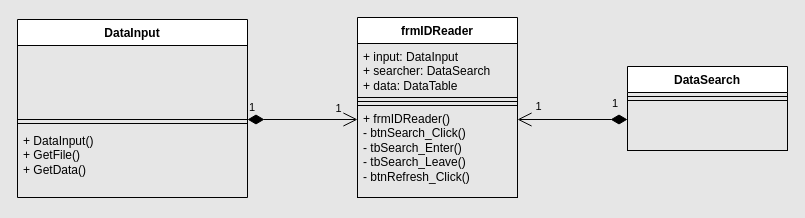
Some shapes in this 805 by 218 pixel diagram are drawn without their labels. Each missing label, with the box of its shape:
+ DataSearch() + SearchForID(): (626, 100, 788, 150)
+ dir: string + delimiter: char + cols: string{} + currFile: string: (16, 44, 248, 120)
